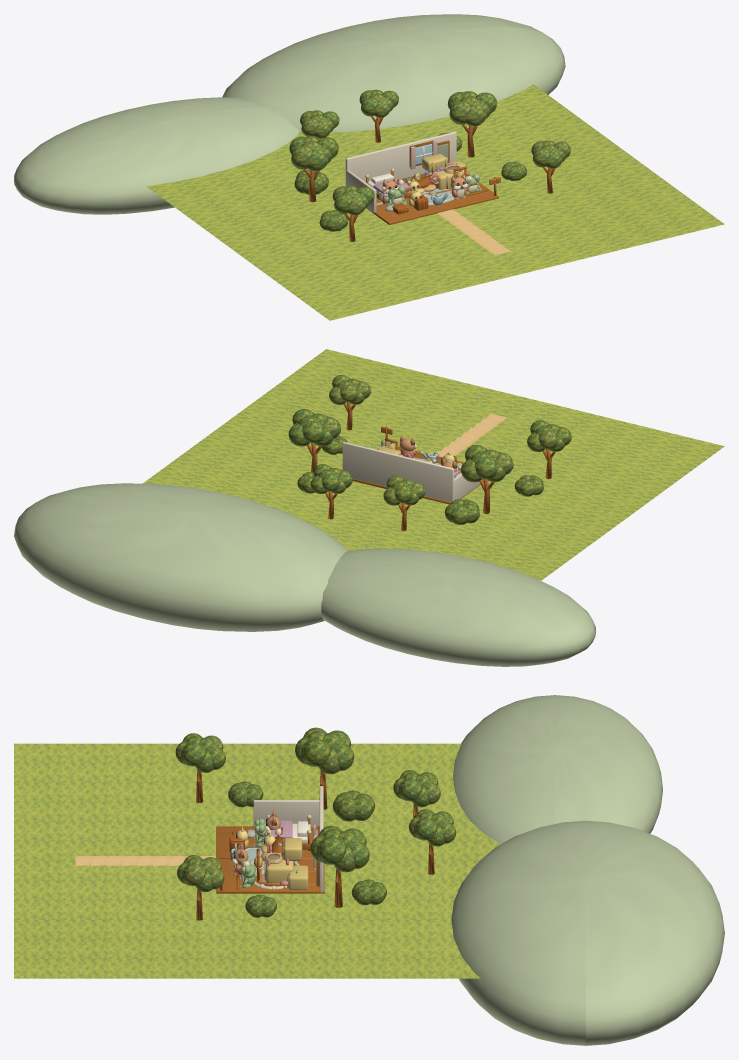
File: bunny-ii-world-CQGWijGQ.glb
The picture shows the model from 3 angles, top to bottom: view 1: azimuth 30°, elevation 25°; view 2: azimuth 150°, elevation 25°; view 3: azimuth 270°, elevation 25°; orthographic projection. The views are drawn at different scales.
Parts seen in each view (by area): view 1: landscape__grass, landscape__solid, landscape__leaves, bedroom__solid, bedroom__wood, landscape__wood, landscape__sand, haystack__solid; view 2: landscape__solid, landscape__grass, landscape__leaves, bedroom__solid, landscape__wood, landscape__sand; view 3: landscape__grass, landscape__solid, landscape__leaves, bedroom__solid, bedroom__wood, haystack__solid, landscape__sand, landscape__wood.
Part boxes in pixels (bbox=[...]): landscape__grass: bbox=[146, 84, 724, 320]; landscape__solid: bbox=[14, 14, 565, 214]; landscape__leaves: bbox=[289, 89, 570, 231]; bedroom__solid: bbox=[345, 131, 486, 219]; bedroom__wood: bbox=[366, 140, 498, 224]; landscape__wood: bbox=[304, 116, 555, 241]; landscape__sand: bbox=[437, 209, 511, 254]; haystack__solid: bbox=[422, 153, 466, 189]; landscape__solid: bbox=[14, 483, 595, 666]; landscape__grass: bbox=[143, 349, 724, 580]; landscape__leaves: bbox=[288, 375, 571, 524]; bedroom__solid: bbox=[342, 442, 480, 502]; landscape__wood: bbox=[307, 402, 555, 530]; landscape__sand: bbox=[436, 413, 506, 456]; landscape__grass: bbox=[14, 743, 500, 978]; landscape__solid: bbox=[451, 695, 724, 1045]; landscape__leaves: bbox=[175, 727, 456, 917]; bedroom__solid: bbox=[219, 786, 323, 892]; bedroom__wood: bbox=[216, 819, 324, 893]; haystack__solid: bbox=[264, 838, 308, 889]; landscape__sand: bbox=[75, 856, 216, 866]; landscape__wood: bbox=[196, 770, 434, 920].
Size of the model in its own units: 50 by 10.35 by 46.
Materials: 2 (1 with a texture image).
